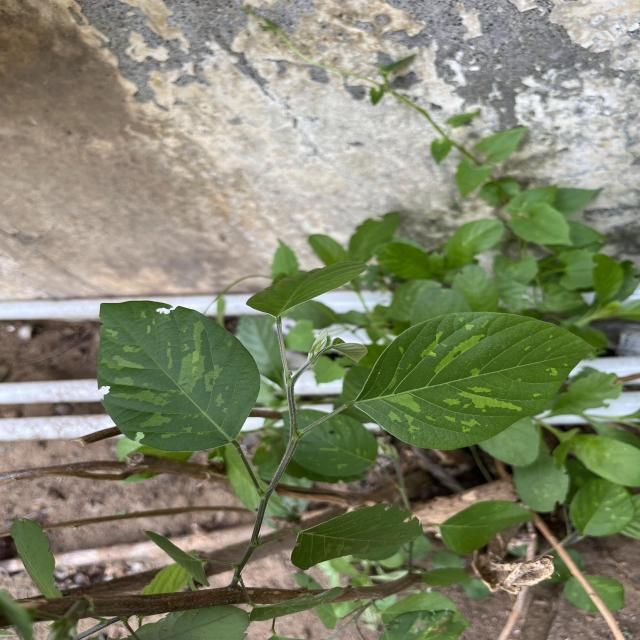Desmodium gangeticum: (353, 308, 600, 452), (92, 297, 264, 456)
